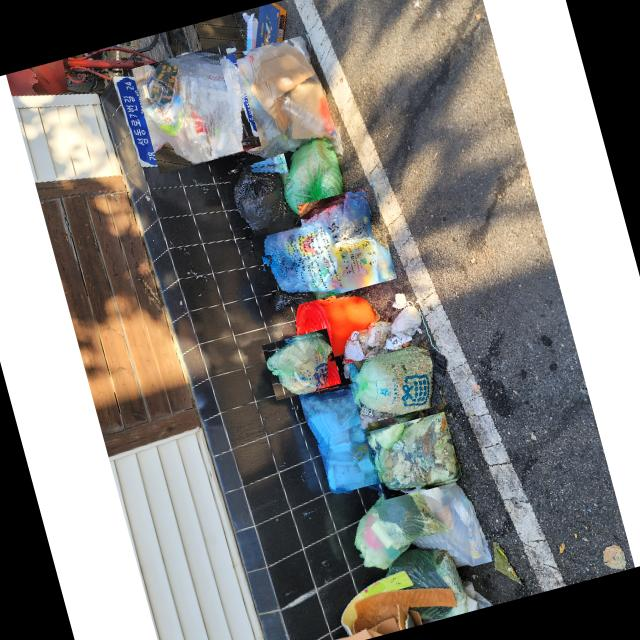general_trashbag: (378, 410, 458, 488), (354, 349, 433, 412), (266, 334, 332, 393)
other_trashbag: (224, 35, 339, 157), (262, 195, 396, 292), (139, 54, 250, 160), (298, 387, 378, 492), (414, 480, 492, 565), (234, 166, 299, 231)
